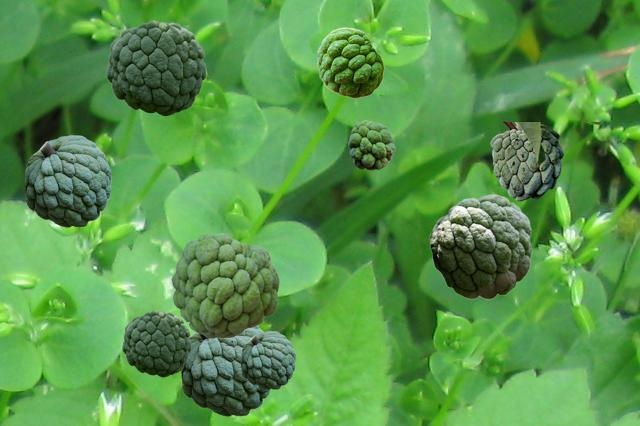atis: (171, 233, 278, 337), (429, 194, 531, 298), (106, 20, 205, 115), (490, 122, 601, 200), (181, 326, 270, 415), (25, 135, 110, 226), (317, 27, 383, 97), (122, 310, 190, 376), (241, 331, 294, 388), (348, 120, 394, 169)
